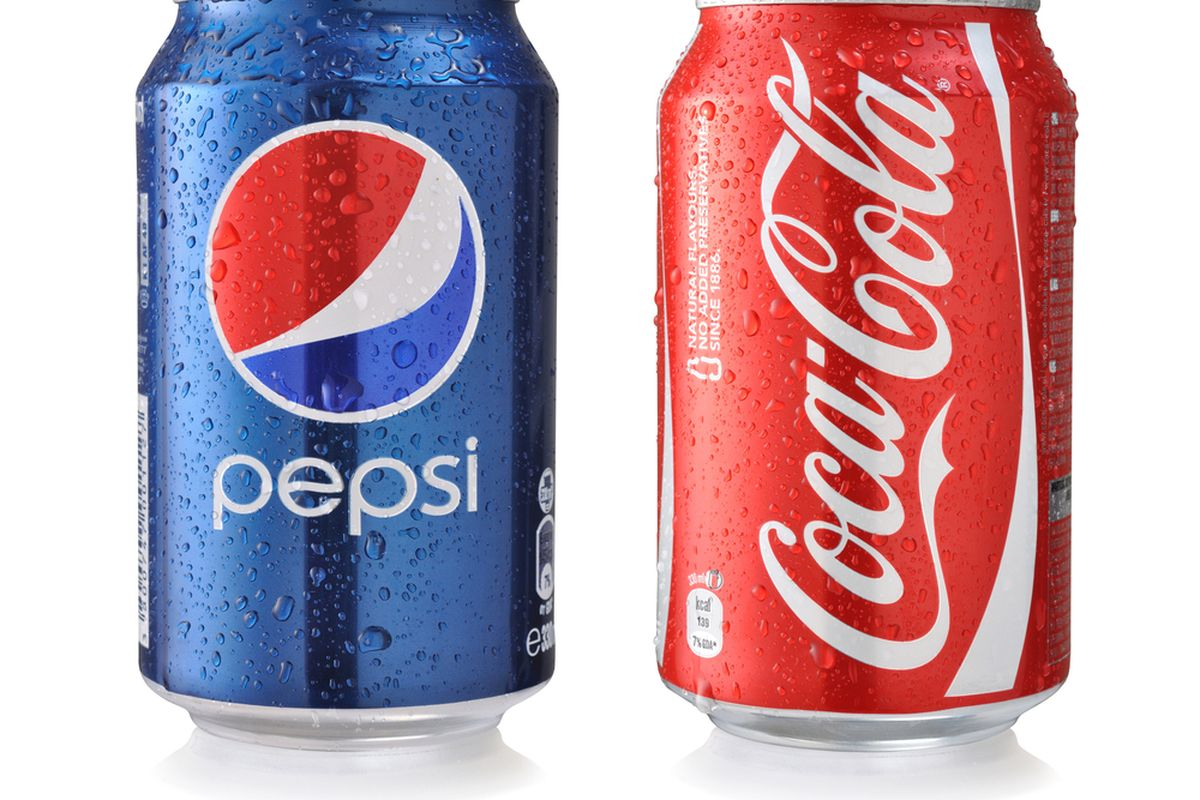pepsi: (203, 118, 484, 423), (203, 129, 484, 423)
